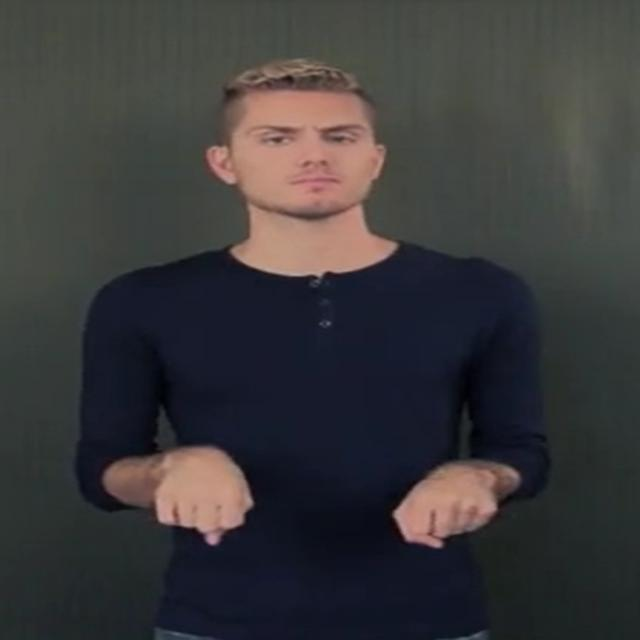can: (154, 446, 498, 548)
